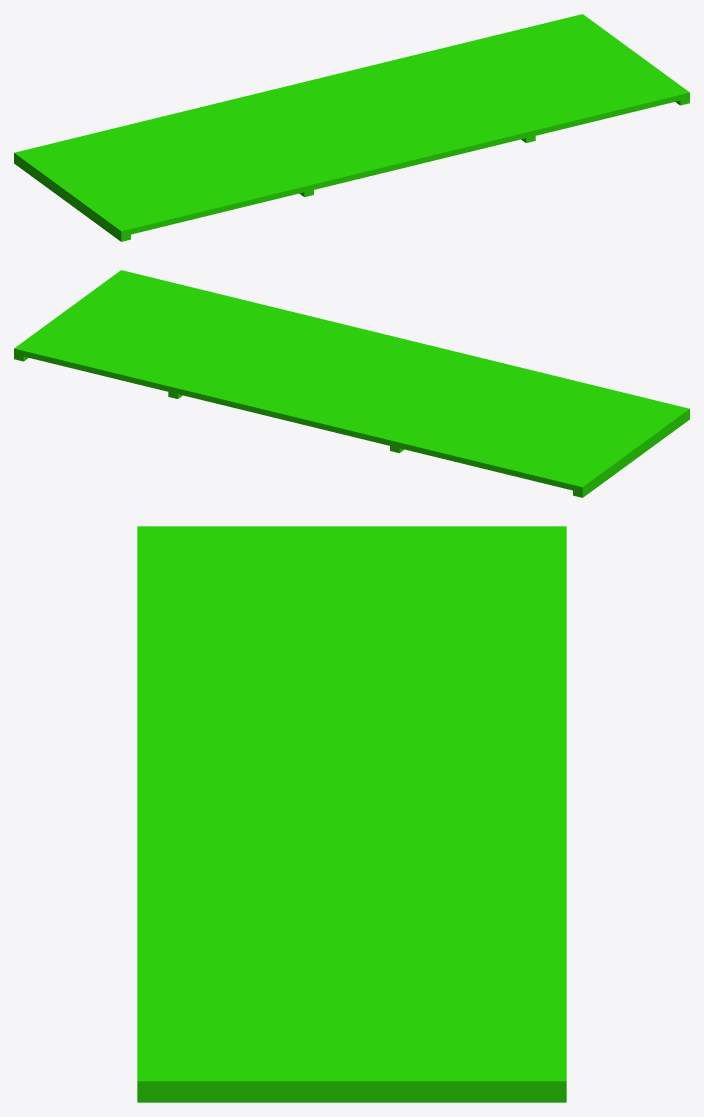
File: Trestle_Table_02_Lod0.fbx
The picture shows the model from 3 angles, top to bottom: view 1: azimuth 30°, elevation 25°; view 2: azimuth 150°, elevation 25°; view 3: azimuth 270°, elevation 25°; orthographic projection. The views are drawn at different scales.
Parts seen in each view (by area): view 1: Trestle_Table_02_Lod0; view 2: Trestle_Table_02_Lod0; view 3: Trestle_Table_02_Lod0.
Boxes of the visible parts, x1,y1,x2,y2 form: Trestle_Table_02_Lod0: [14, 14, 689, 241]; Trestle_Table_02_Lod0: [14, 270, 689, 497]; Trestle_Table_02_Lod0: [137, 526, 566, 1102].
Size of the model in its own units: 260 by 4.65 by 84.96.
